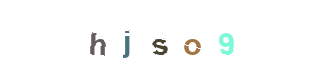9: (186, 0, 266, 80)
H: (84, 0, 164, 80)
J: (103, 0, 183, 80)
O: (148, 0, 228, 80)
S: (127, 0, 207, 80)
